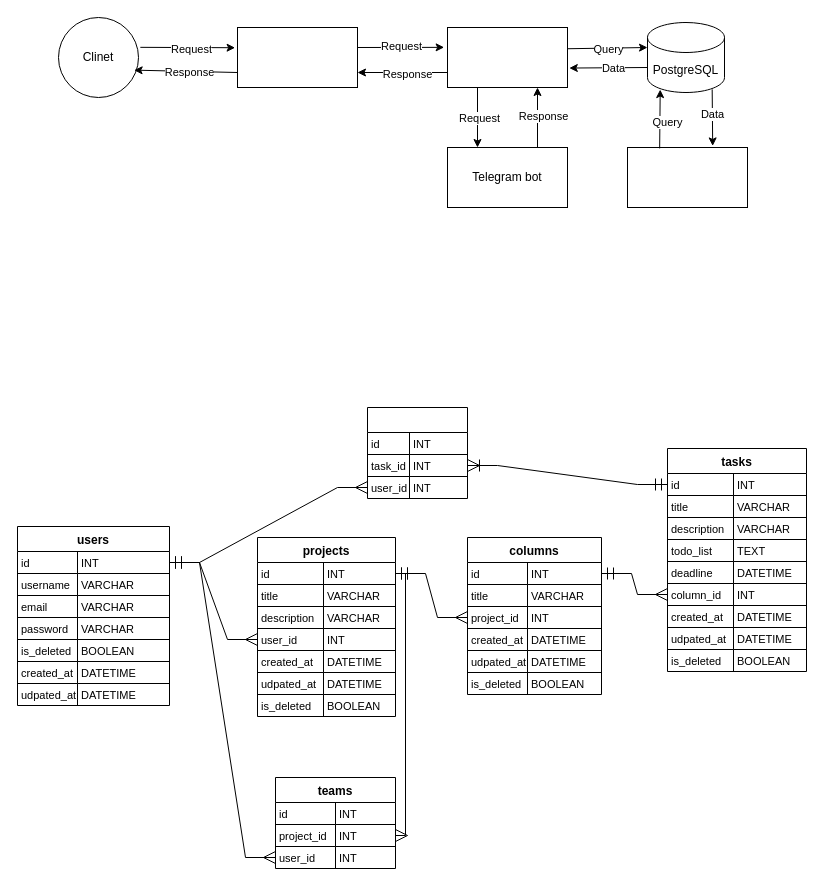
The diagram is 824 pixels wide and 888 high, and some of its shapes have lost their labels. Here are the shapes that lost their labels. From the top down, the box of each, then its label:
(236, 26, 358, 88): Next.js
(446, 26, 568, 88): Spring Boot
(626, 146, 748, 208): pgAdmin
(366, 406, 468, 498): executors
